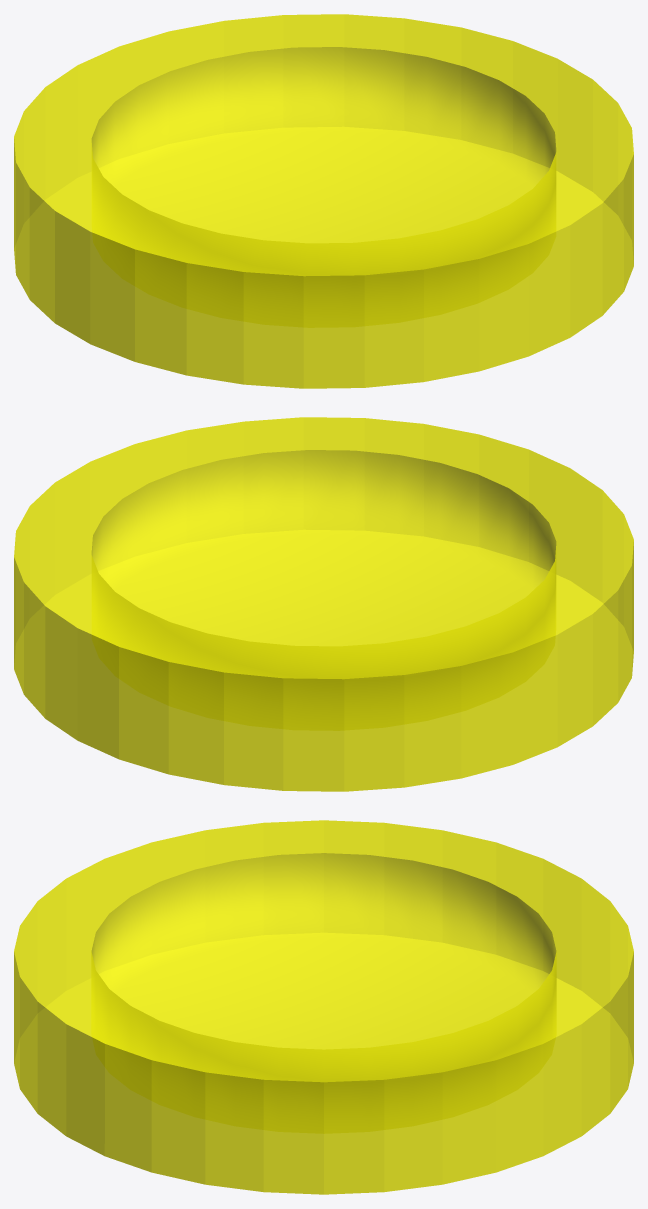
Rendered from YellowNotePlayer.obj.
3 views of the same model, one above another, from view 1: azimuth 30°, elevation 25°; view 2: azimuth 150°, elevation 25°; view 3: azimuth 270°, elevation 25° (orthographic).
Parts seen in each view (by area): view 1: Cylinder; view 2: Cylinder; view 3: Cylinder.
Part boxes in pixels (box(x1,y1,x2,y2)): Cylinder: box(14, 14, 633, 388); Cylinder: box(14, 417, 633, 791); Cylinder: box(14, 820, 633, 1194).
Bounding box in the file's own units: 2 × 0.4 × 2.
